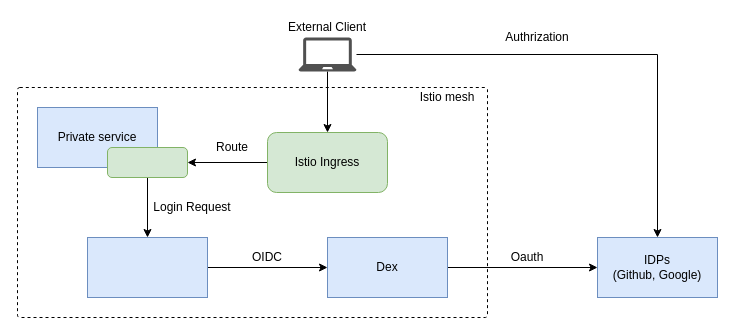
Some shapes in this 735 by 335 pixel diagram are drawn without their labels. The box of each missing label's shape, as (x1, y1, x2, y2) in pixels:
auth proxy (Dex client): (86, 236, 208, 298)
Sidecar: (106, 146, 188, 178)
